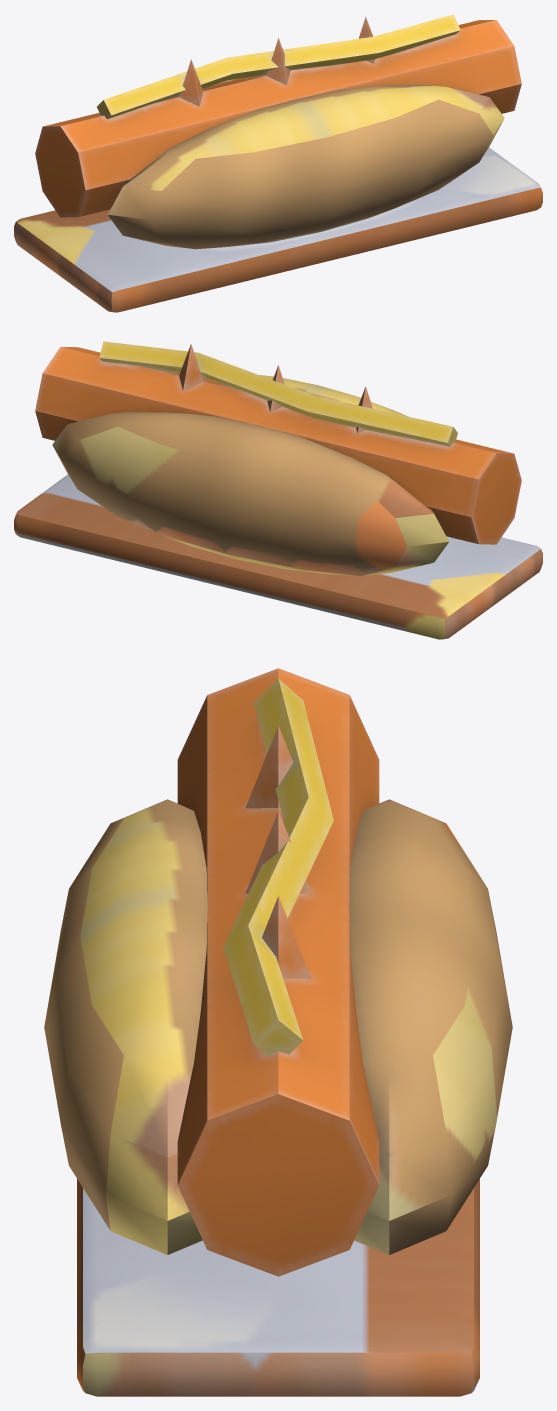
The model's file is held_dog.glb.
3 views of the same model, one above another, from view 1: azimuth 30°, elevation 25°; view 2: azimuth 150°, elevation 25°; view 3: azimuth 270°, elevation 25° (orthographic). The views are drawn at different scales.
Visible parts, largest first — view 1: Bun, Fill; view 2: Bun, Fill; view 3: Bun, Fill.
Part boxes in pixels (x1,y1,x2,y2): Bun: (14,49,542,312); Fill: (35,14,521,217); Bun: (14,375,542,639); Fill: (35,341,521,544); Bun: (44,799,512,1396); Fill: (177,668,379,1276).
Size of the model in its own units: 0.2 by 0.0835 by 0.093.
1 material, 1 textured.
